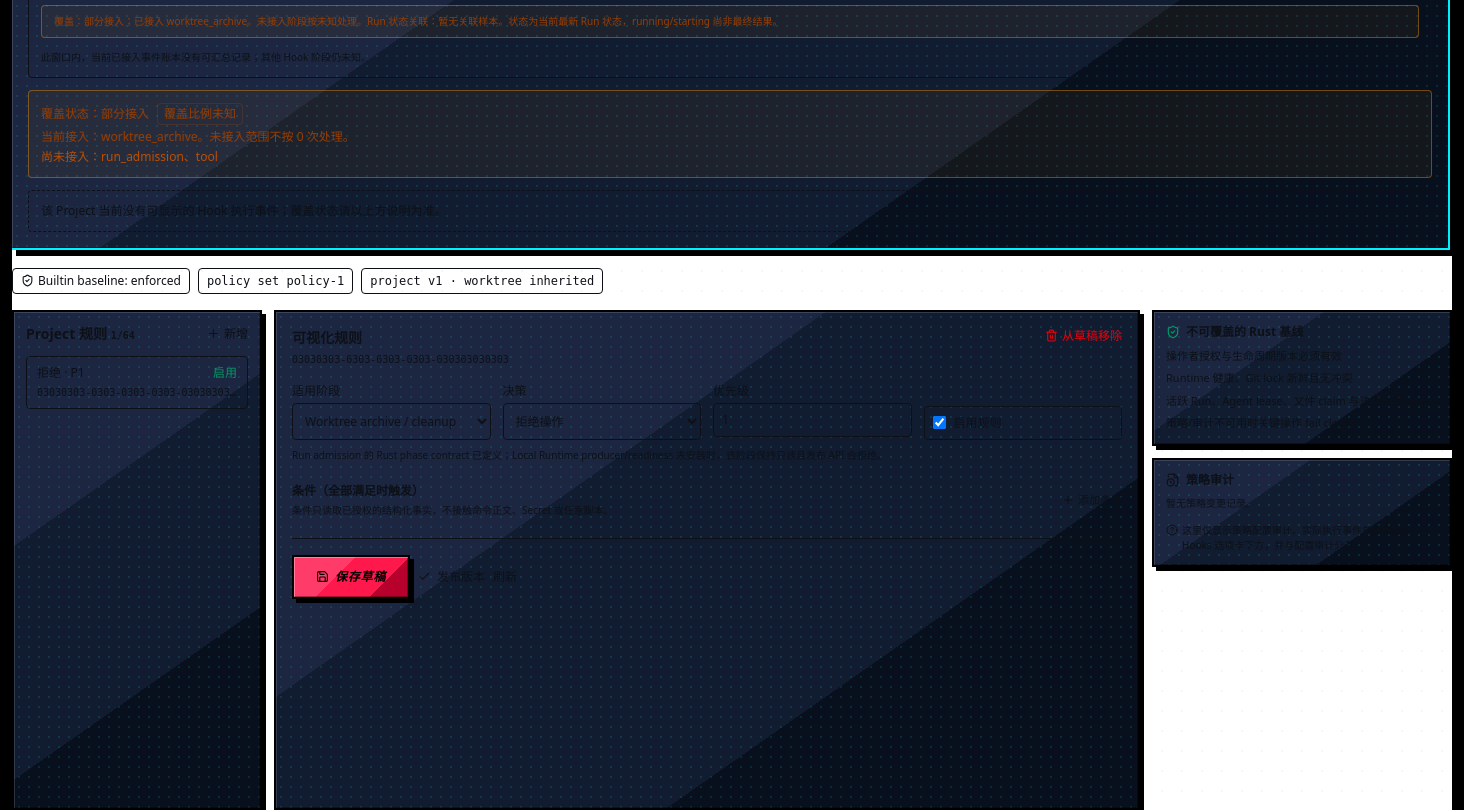
Test: HookPolicyPage › enables Run admission phase only when the service reports an installed producer
(page scrolled)
Expected: the dropdown named "Hook 适用阶段" shows "Worktree archive / cleanup", top-left (292, 402), bottom-right (490, 440)
Expected: the text "Run admission 的 Rust phase contract 已定义" is shown, top-left (292, 448), bottom-right (887, 462)
Click the button "刷新" at (505, 576), box top-left (493, 554), bottom-right (517, 598)
(page scrolled)
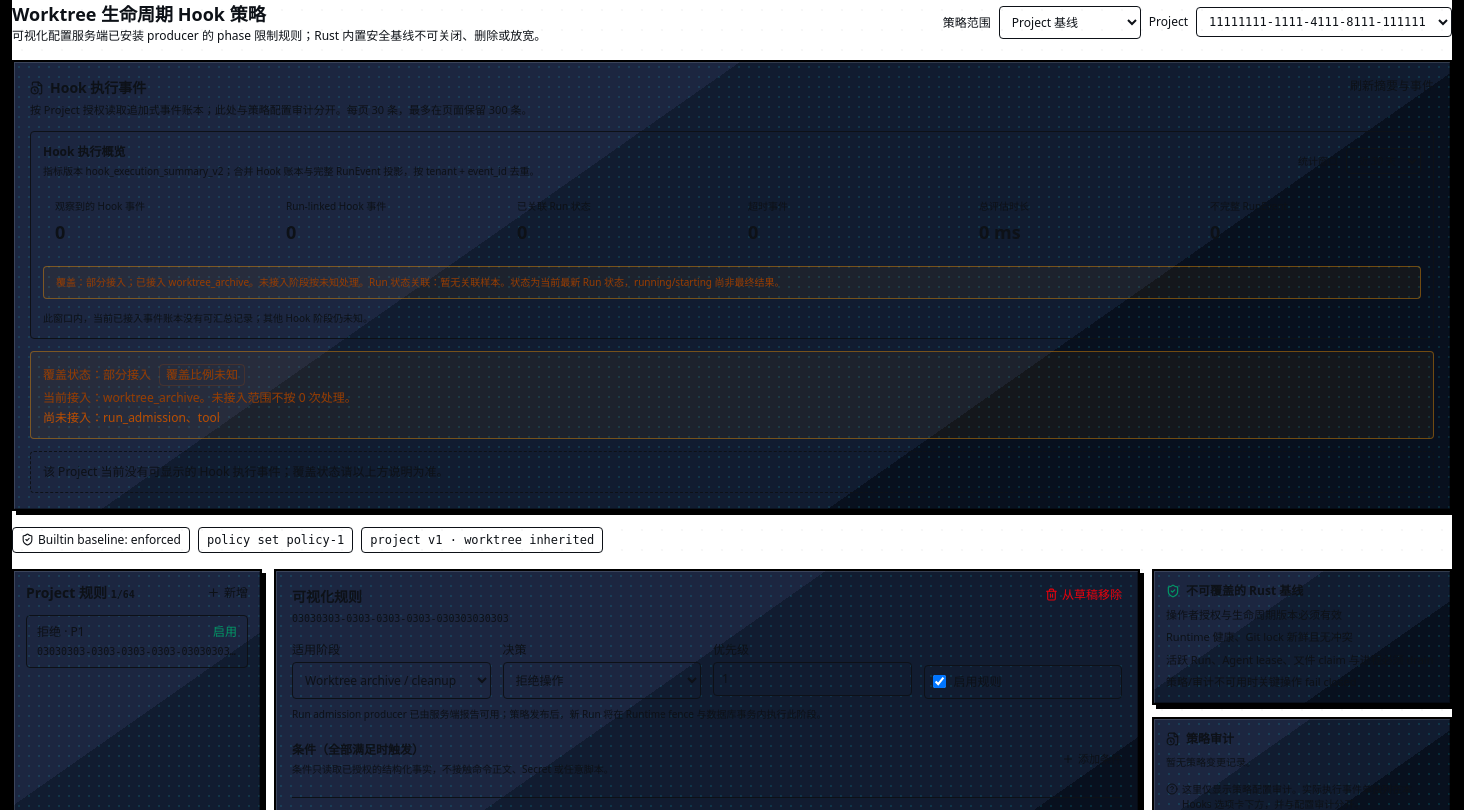
Expected: the message with test id "hook-event-coverage" shows "run_admission", top-left (103, 408), bottom-right (220, 426)
Expected: the text "Run admission producer 已由服务端报告可用" is shown, top-left (292, 706), bottom-right (826, 720)
